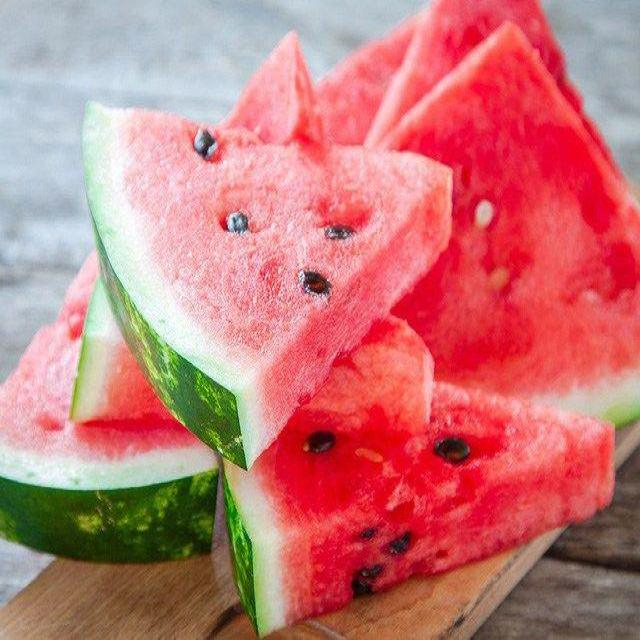dua hau: (84, 105, 450, 469), (391, 23, 639, 393), (246, 383, 613, 618)
